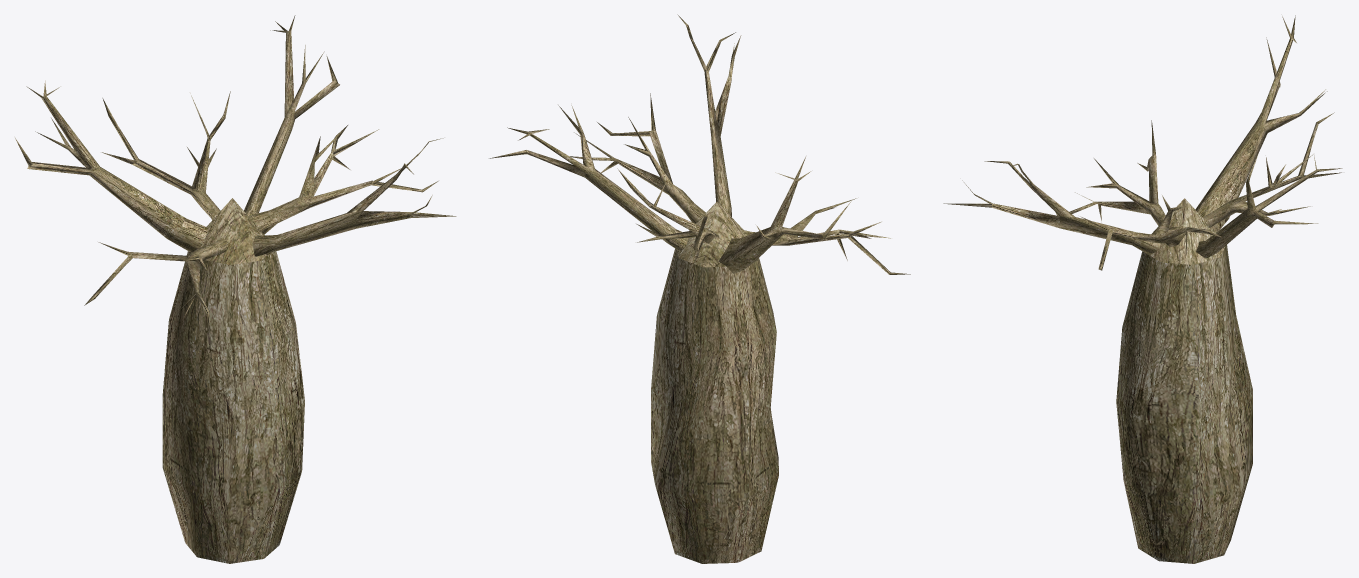
File: tree_baobab_trunk_d.dae
3 views of the same model, side by side, from view 1: azimuth 30°, elevation 25°; view 2: azimuth 150°, elevation 25°; view 3: azimuth 270°, elevation 25° (orthographic).
Parts seen in each view (by area): view 1: Cylinder42; view 2: Cylinder42; view 3: Cylinder42.
Boxes of the visible parts, box(x1,y1,x2,y2) form: Cylinder42: box(15, 15, 456, 563); Cylinder42: box(489, 14, 910, 563); Cylinder42: box(943, 15, 1342, 563).
Size of the model in its own units: 13.61 by 13.92 by 17.56.
